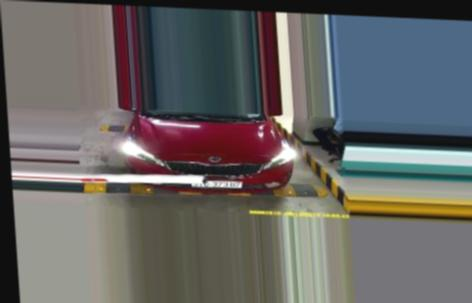License_Plate: (191, 176, 243, 192)
